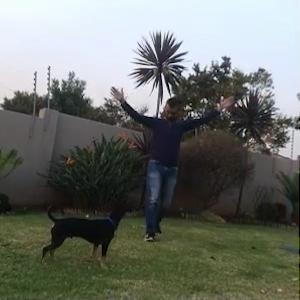takeoff: (111, 84, 238, 230)
